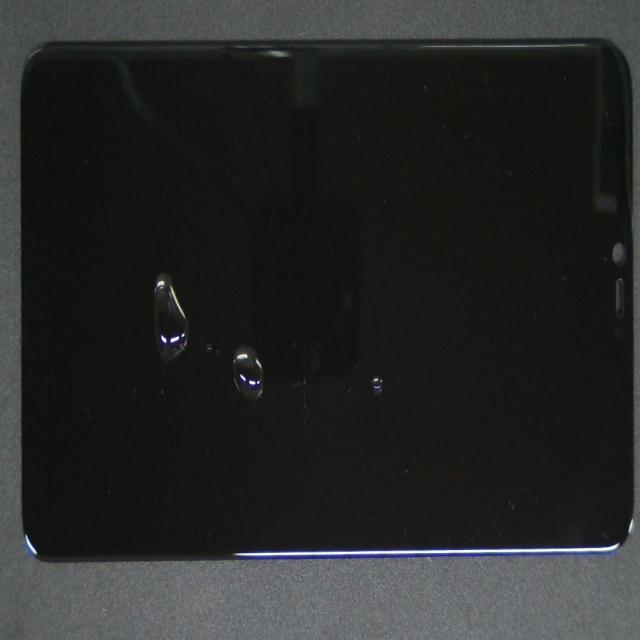oil: (141, 266, 190, 366), (225, 336, 276, 410), (365, 369, 395, 400)
